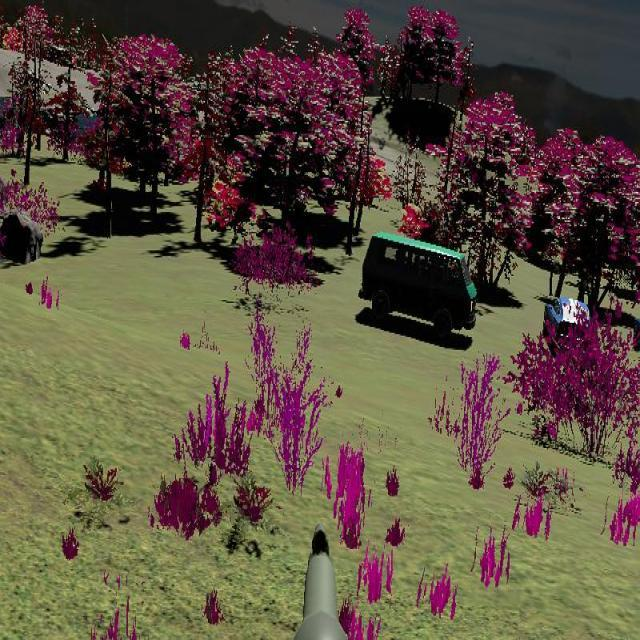car: (358, 232, 477, 341), (543, 295, 591, 354)
